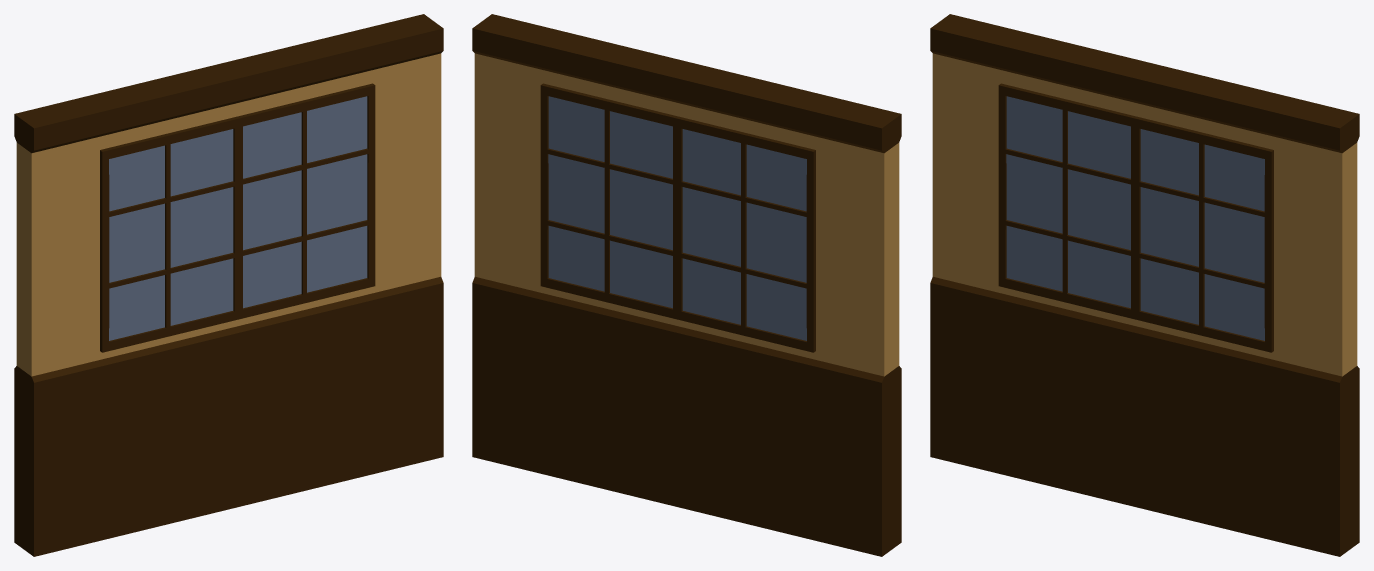
Rendered from Classic_WallWindow_03_snaps001.fbx.
3 views of the same model, side by side, from view 1: azimuth 30°, elevation 25°; view 2: azimuth 150°, elevation 25°; view 3: azimuth 330°, elevation 25° (orthographic).
Parts seen in each view (by area): view 1: Classic_WallWindow_03_snaps001; view 2: Classic_WallWindow_03_snaps001; view 3: Classic_WallWindow_03_snaps001.
Boxes of the visible parts, x1,y1,x2,y2 form: Classic_WallWindow_03_snaps001: [14, 14, 443, 556]; Classic_WallWindow_03_snaps001: [472, 14, 901, 556]; Classic_WallWindow_03_snaps001: [930, 14, 1359, 556].
Size of the model in its own units: 300 by 300 by 25.
